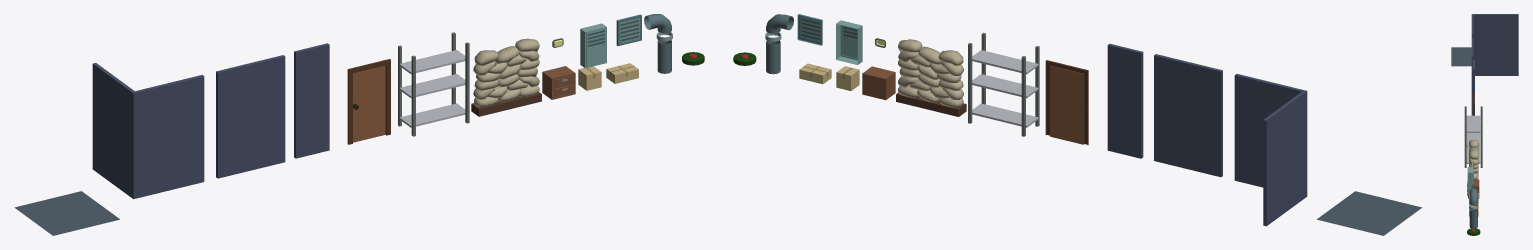
The model's file is Location.fbx.
The picture shows the model from 3 angles, left to right: view 1: azimuth 30°, elevation 25°; view 2: azimuth 150°, elevation 25°; view 3: azimuth 270°, elevation 25°; orthographic projection. The views are drawn at different scales.
Parts seen in each view (by area): view 1: Wall_сorner, Wall_middle, Barikada, Wall_short, Rack, Door, Floor, Shitok, Bedside_table, Ventilation, Box_2, Box_1 (+2 smaller); view 2: Wall_сorner, Wall_middle, Barikada, Wall_short, Rack, Door, Floor, Shitok, Bedside_table, Ventilation, Box_2, Box_1 (+2 smaller); view 3: Wall_сorner, Rack, Floor, Barikada, Wall_middle, Pipe, Shitok, Pipe_Corner, Wall_short, Bedside_table, Mine, Pipe_Ring.
Part boxes in pixels (box(x1,y1,x2,y2)): Wall_сorner: box(92, 63, 204, 199); Wall_middle: box(216, 55, 285, 178); Barikada: box(471, 38, 541, 116); Wall_short: box(294, 43, 329, 158); Rack: box(398, 32, 469, 136); Door: box(347, 59, 390, 144); Floor: box(14, 191, 119, 235); Shitok: box(580, 23, 606, 68); Bedside_table: box(542, 66, 575, 99); Ventilation: box(616, 14, 641, 46); Box_2: box(606, 63, 638, 83); Box_1: box(578, 66, 601, 90); Wall_сorner: box(1234, 74, 1307, 226); Wall_middle: box(1154, 54, 1222, 177); Barikada: box(896, 39, 966, 116); Wall_short: box(1107, 43, 1143, 158); Rack: box(968, 32, 1039, 136); Door: box(1045, 60, 1088, 145); Floor: box(1317, 191, 1422, 235); Shitok: box(836, 20, 862, 64); Bedside_table: box(862, 66, 895, 100); Ventilation: box(797, 14, 822, 45); Box_2: box(799, 63, 831, 84); Box_1: box(836, 66, 859, 90); Wall_сorner: box(1471, 14, 1518, 75); Rack: box(1464, 106, 1482, 167); Floor: box(1451, 47, 1471, 66); Barikada: box(1469, 139, 1478, 179); Wall_middle: box(1471, 37, 1473, 115); Pipe: box(1469, 209, 1477, 228); Shitok: box(1467, 167, 1473, 193); Pipe_Corner: box(1469, 188, 1477, 205); Wall_short: box(1472, 60, 1474, 115); Bedside_table: box(1467, 179, 1479, 198); Mine: box(1467, 228, 1480, 235); Pipe_Ring: box(1469, 204, 1478, 209).
Bounding box in the file's own units: 1987 × 309 × 300.
